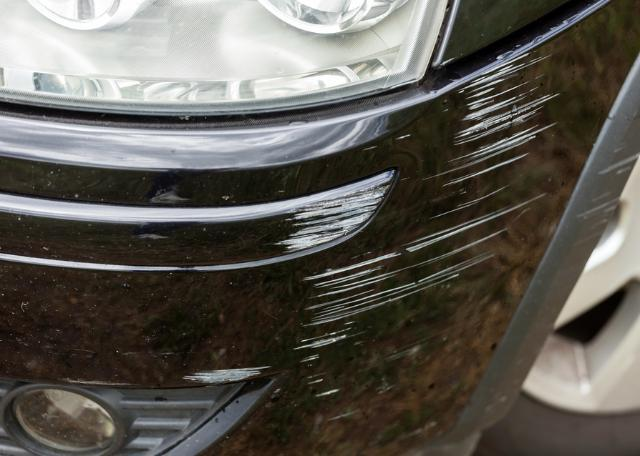Bumper: (237, 1, 630, 454)
